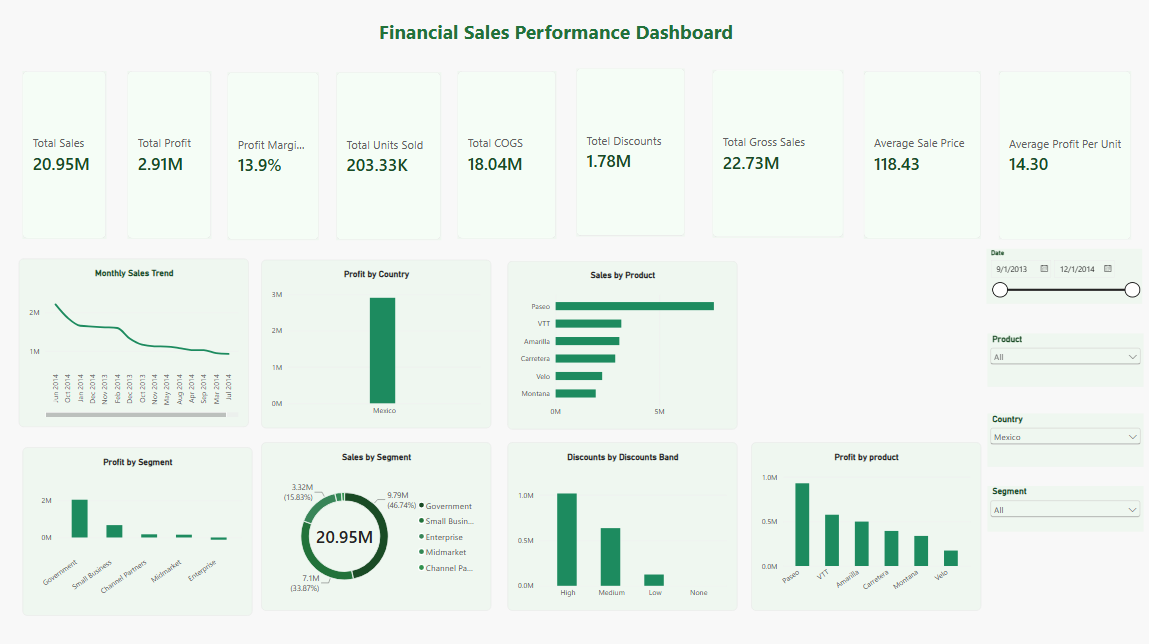

Layout of this report page (visuals, bound fields, positions):
{"tool":"powerbi","page":{"name":"Page 1","canvas":[1920,1080],"ordinal":0},"visuals":[{"type":"cardVisual","fields":{"Data":["financials.Total Sales"]},"box":[37.5,125,140,279.9],"z":0},{"type":"cardVisual","fields":{"Data":["financials.Total Profit"]},"box":[212.5,125,140,279.9],"z":1000},{"type":"cardVisual","fields":{"Data":["financials.Profit Margin %"]},"box":[379.1,127.1,152.3,279.9],"z":2000},{"type":"cardVisual","fields":{"Data":["financials.Total Units Sold"]},"box":[560.3,127.1,175,279.9],"z":3000},{"type":"cardVisual","fields":{"Data":["financials.Total COGS"]},"box":[762.3,125,164.7,279.9],"z":4000},{"type":"cardVisual","fields":{"Data":["financials.Totel Discounts"]},"box":[960.2,120.8,181.1,279.9],"z":5000},{"type":"cardVisual","fields":{"Data":["financials.Total Gross Sales"]},"box":[1187.2,122.9,218.2,279.9],"z":6000},{"type":"cardVisual","fields":{"Data":["financials.Average Sale Price"]},"box":[1439.3,125,195.5,279.9],"z":7000},{"type":"cardVisual","fields":{"Data":["financials.Average Profit Per Unit"]},"box":[1664.2,125,220.8,281.2],"z":8000},{"type":"lineChart","title":"Monthly Sales Trend","fields":{"Category":["Calander Table.Month Year"],"Y":["financials.Total Sales"]},"box":[31.2,437.4,383.3,281.2],"z":9000},{"type":"clusteredColumnChart","title":"Profit by Country","fields":{"Category":["financials.Country"],"Y":["financials.Total Profit"]},"box":[435.3,439.5,383,281],"z":10000},{"type":"clusteredBarChart","title":"Sales by Product ","fields":{"Category":["financials.Product"],"Y":["financials.Total Sales"]},"box":[845.7,441.6,383,281],"z":11000},{"type":"clusteredColumnChart","title":"Profit by Segment ","fields":{"Category":["financials.Segment"],"Y":["financials.Total Profit"]},"box":[37.5,751.9,383,281],"z":12000},{"type":"donutChart","title":"Sales by Segment","fields":{"Category":["financials.Segment"],"Y":["financials.Total Sales"]},"box":[435.3,743.6,383,281],"z":13000},{"type":"clusteredColumnChart","title":" Discounts by Discounts Band","fields":{"Category":["financials.Discount Band"],"Y":["financials.Totel Discounts"]},"box":[845.7,743.6,383,281],"z":14000},{"type":"clusteredColumnChart","title":"Profit by product ","fields":{"Category":["financials.Product"],"Y":["financials.Total Profit"]},"box":[1251.8,743.6,383,281],"z":15000},{"type":"slicer","fields":{"Values":["Calander Table.Date"]},"box":[1643.4,420.7,260,91.6],"z":16000},{"type":"slicer","fields":{"Values":["financials.Country"]},"box":[1645.5,695.7,260,89],"z":17000},{"type":"slicer","fields":{"Values":["financials.Segment"]},"box":[1645.1,816.1,259.8,75.8],"z":18000},{"type":"slicer","fields":{"Values":["financials.Product"]},"box":[1645.5,562.4,260.4,89],"z":19000},{"type":"textbox","box":[56.2,37.5,1749.6,60.4],"z":21000}]}

Visuals, with their boxes in screenshot pixels (x1, y1, x2, y2), scaled from the page's 1920x1080 canvas onto the 1149x644 screenshot:
cardVisual - financials.Total Sales: bbox(22, 75, 106, 241)
cardVisual - financials.Total Profit: bbox(127, 75, 211, 241)
cardVisual - financials.Profit Margin %: bbox(227, 76, 318, 243)
cardVisual - financials.Total Units Sold: bbox(335, 76, 440, 243)
cardVisual - financials.Total COGS: bbox(456, 75, 555, 241)
cardVisual - financials.Totel Discounts: bbox(575, 72, 683, 239)
cardVisual - financials.Total Gross Sales: bbox(710, 73, 841, 240)
cardVisual - financials.Average Sale Price: bbox(861, 75, 978, 241)
cardVisual - financials.Average Profit Per Unit: bbox(996, 75, 1128, 242)
"Monthly Sales Trend" lineChart: bbox(19, 261, 248, 428)
"Profit by Country" clusteredColumnChart: bbox(260, 262, 490, 430)
"Sales by Product " clusteredBarChart: bbox(506, 263, 735, 431)
"Profit by Segment " clusteredColumnChart: bbox(22, 448, 252, 616)
"Sales by Segment" donutChart: bbox(260, 443, 490, 611)
" Discounts by Discounts Band" clusteredColumnChart: bbox(506, 443, 735, 611)
"Profit by product " clusteredColumnChart: bbox(749, 443, 978, 611)
slicer - Calander Table.Date: bbox(983, 251, 1139, 305)
slicer - financials.Country: bbox(985, 415, 1140, 468)
slicer - financials.Segment: bbox(984, 487, 1140, 532)
slicer - financials.Product: bbox(985, 335, 1141, 388)
textbox: bbox(34, 22, 1081, 58)
